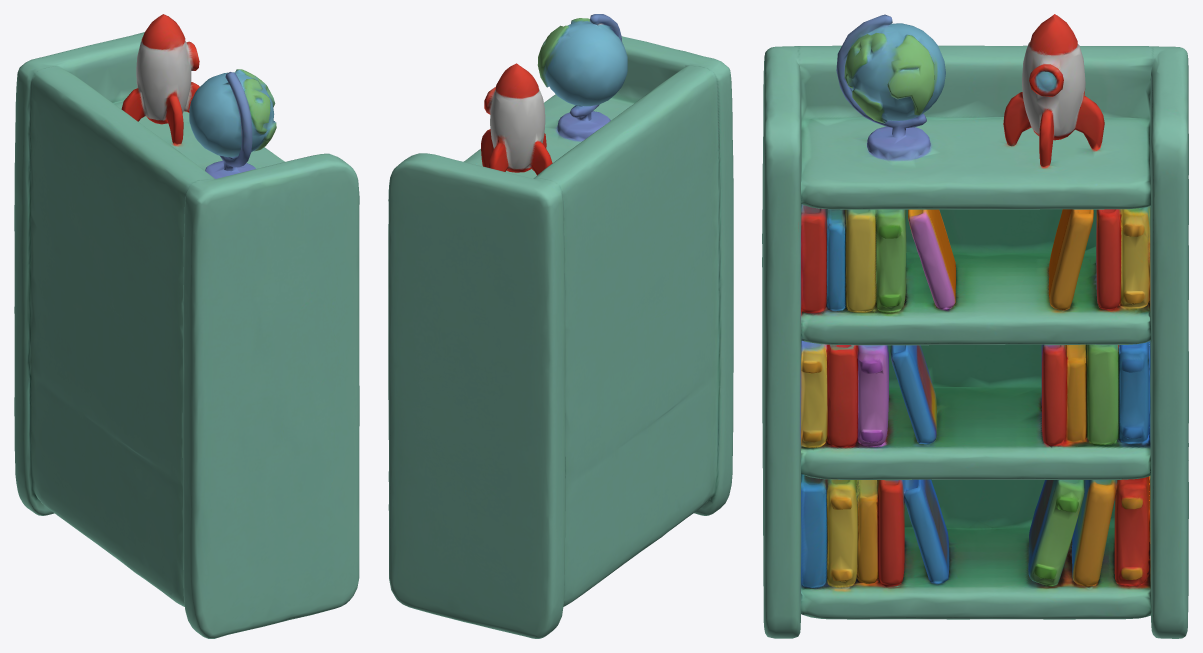
File: bookshelf.glb
The picture shows the model from 3 angles, left to right: view 1: azimuth 30°, elevation 25°; view 2: azimuth 150°, elevation 25°; view 3: azimuth 270°, elevation 25°; orthographic projection. The views are drawn at different scales.
Visible parts, largest first — view 1: tripo_node_c2db51d3-8531-425e-b22b-80e5aca26cb8; view 2: tripo_node_c2db51d3-8531-425e-b22b-80e5aca26cb8; view 3: tripo_node_c2db51d3-8531-425e-b22b-80e5aca26cb8.
Boxes of the visible parts, box(x1,y1,x2,y2) form: tripo_node_c2db51d3-8531-425e-b22b-80e5aca26cb8: box(14, 14, 359, 638); tripo_node_c2db51d3-8531-425e-b22b-80e5aca26cb8: box(388, 14, 733, 638); tripo_node_c2db51d3-8531-425e-b22b-80e5aca26cb8: box(762, 14, 1188, 638).
Bounding box in the file's own units: 0.3385 × 1 × 0.6487.
1 material, 1 textured.
